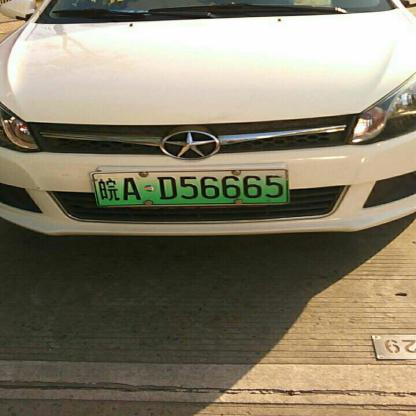lp: (92, 170, 288, 206)
